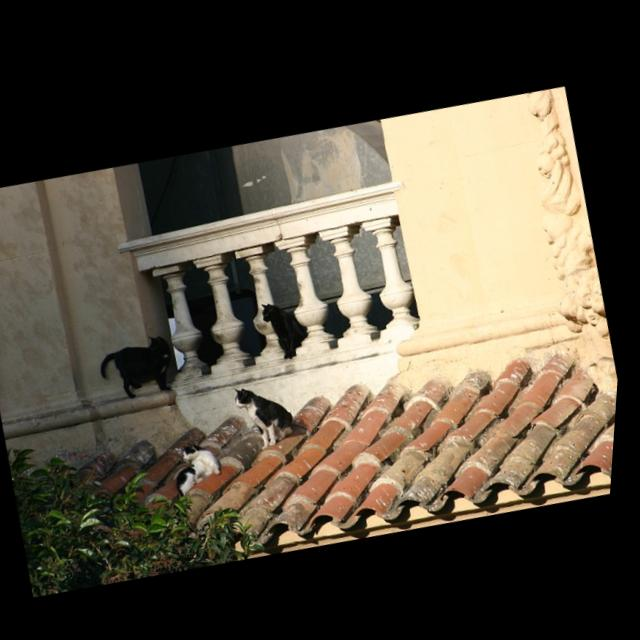animals: (100, 327, 184, 399), (234, 377, 311, 442), (180, 434, 229, 503), (259, 298, 318, 355)
